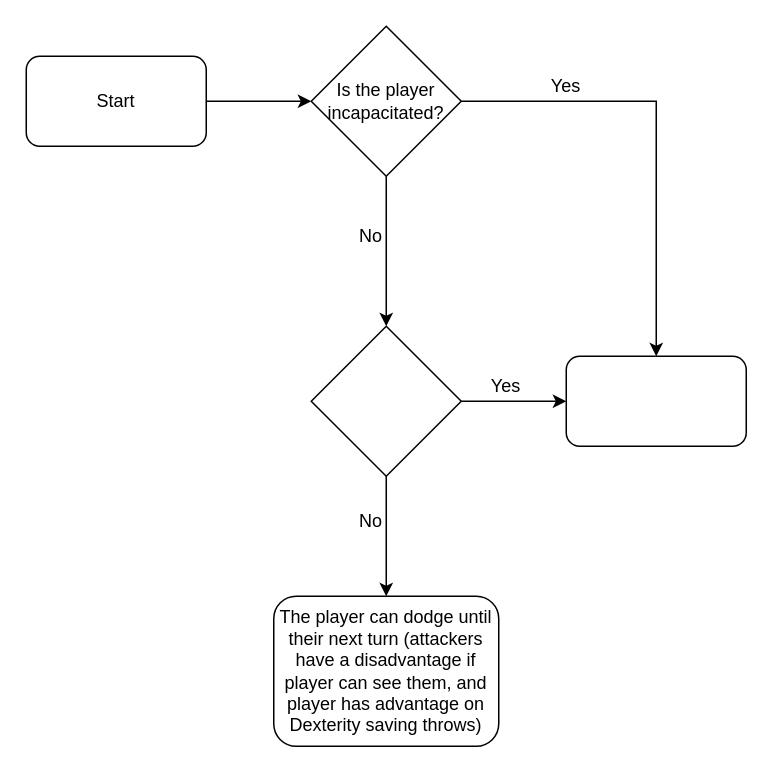
This 773x773 diagram has some shape labels left out. The box of each missing label's shape, as (x1, y1, x2, y2) in pixels:
Is the player's speed = 0: (310, 325, 461, 476)
Unable to dodge: (565, 355, 746, 446)
